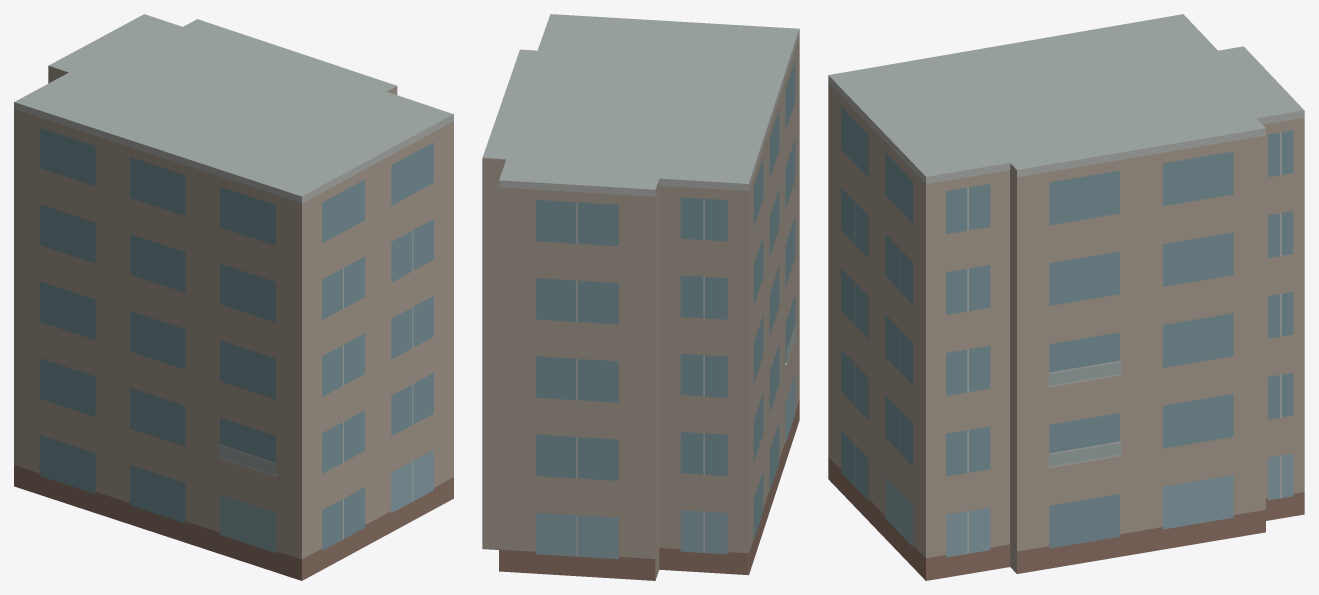
File: survey-upis-32702245.glb
3 views of the same model, side by side, from view 1: azimuth 30°, elevation 25°; view 2: azimuth 150°, elevation 25°; view 3: azimuth 270°, elevation 25° (orthographic). The views are drawn at different scales.
Parts seen in each view (by area): view 1: survey-upis-32702245.tmp; view 2: survey-upis-32702245.tmp; view 3: survey-upis-32702245.tmp.
Part boxes in pixels (x1,y1,x2,y2): survey-upis-32702245.tmp: (14,14,453,580); survey-upis-32702245.tmp: (482,14,799,580); survey-upis-32702245.tmp: (828,14,1304,580).
Bounding box in the file's own units: 11.67 × 13.5 × 14.43.
